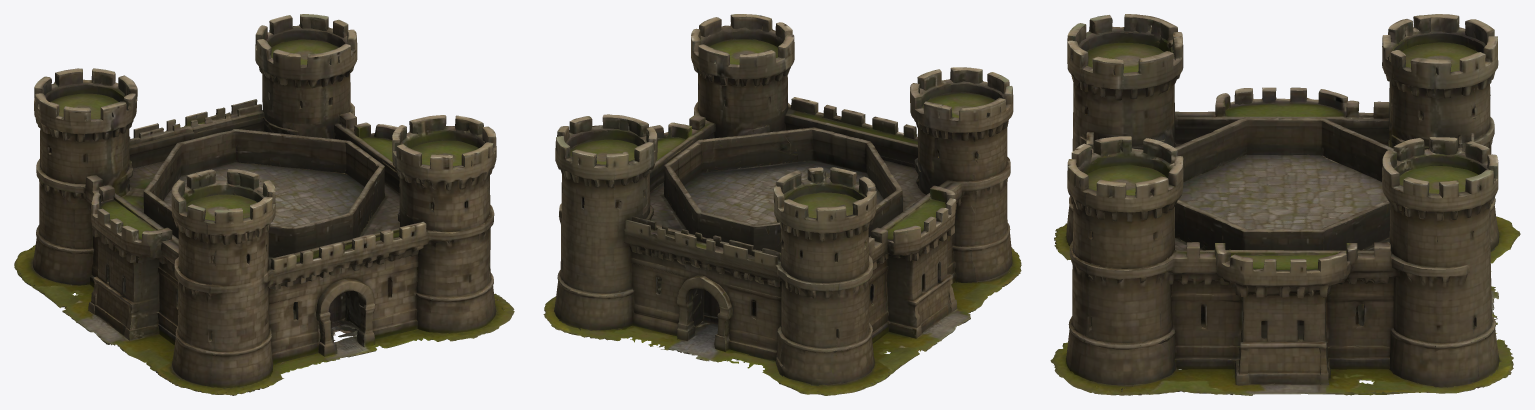
The model's file is fortress__sandstone-keep-castle.glb.
3 views of the same model, side by side, from view 1: azimuth 30°, elevation 25°; view 2: azimuth 150°, elevation 25°; view 3: azimuth 270°, elevation 25° (orthographic). The views are drawn at different scales.
Size of the model in its own units: 1.86 by 0.927 by 1.94.
Materials: 1 (1 with a texture image).
